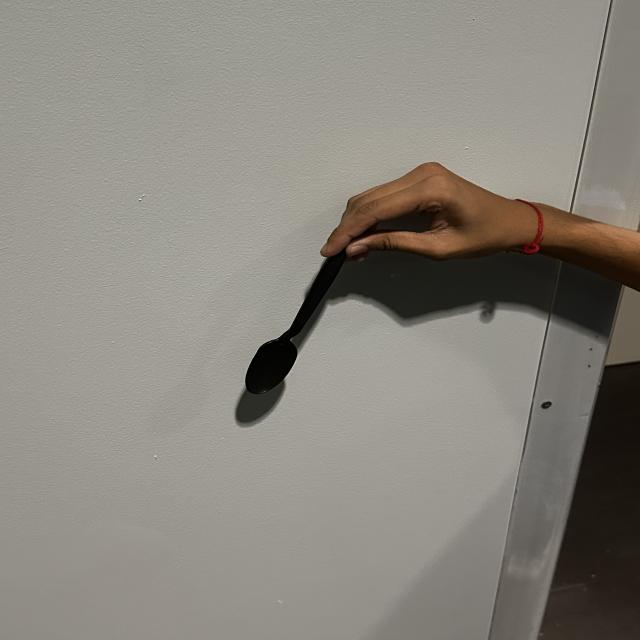spoon: (209, 228, 385, 426)
